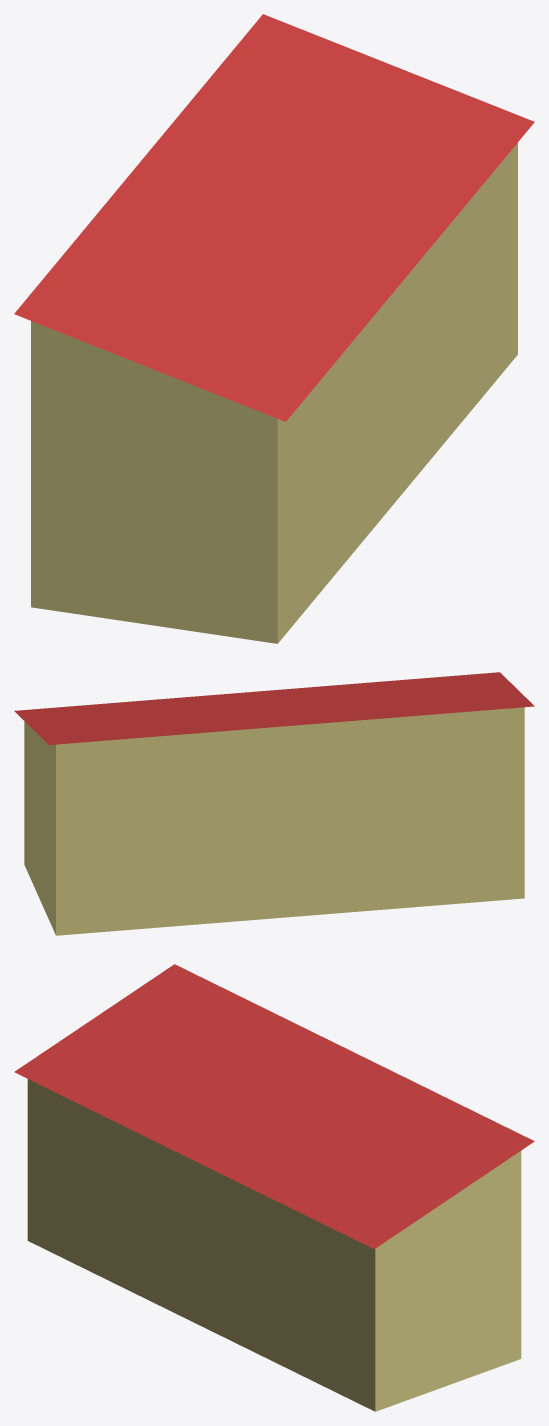
The picture shows the model from 3 angles, top to bottom: view 1: azimuth 30°, elevation 25°; view 2: azimuth 150°, elevation 25°; view 3: azimuth 270°, elevation 25°; orthographic projection. The views are drawn at different scales.
Bounding box in the file's own units: 14.25 × 13.32 × 6.15.
